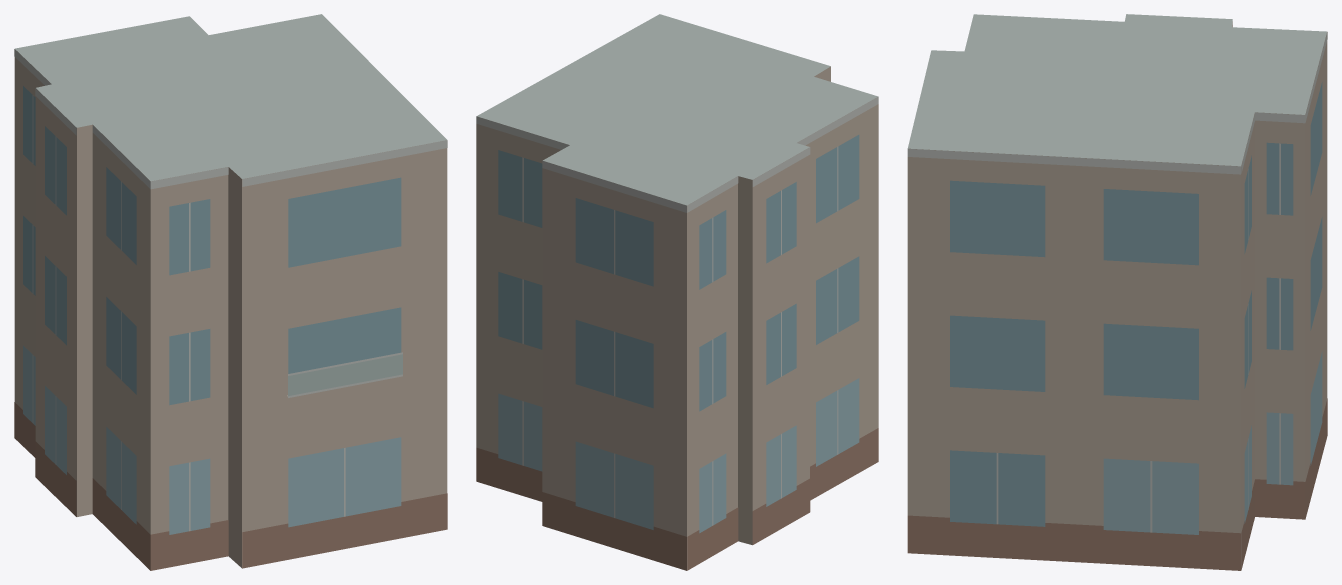
File: survey-upis-32503594.glb
3 views of the same model, side by side, from view 1: azimuth 30°, elevation 25°; view 2: azimuth 150°, elevation 25°; view 3: azimuth 270°, elevation 25° (orthographic). The views are drawn at different scales.
Parts seen in each view (by area): view 1: survey-upis-32503594.tmp; view 2: survey-upis-32503594.tmp; view 3: survey-upis-32503594.tmp.
Boxes of the visible parts, left/top/right/bottom form: survey-upis-32503594.tmp: left=14, top=14, right=447, bottom=570; survey-upis-32503594.tmp: left=476, top=14, right=878, bottom=570; survey-upis-32503594.tmp: left=907, top=14, right=1327, bottom=570.
Size of the model in its own units: 9.62 by 11.9 by 11.2.
